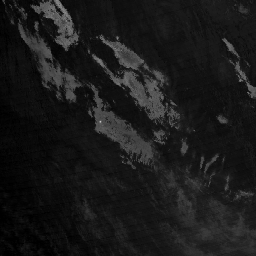Target: (97, 120, 102, 125)
